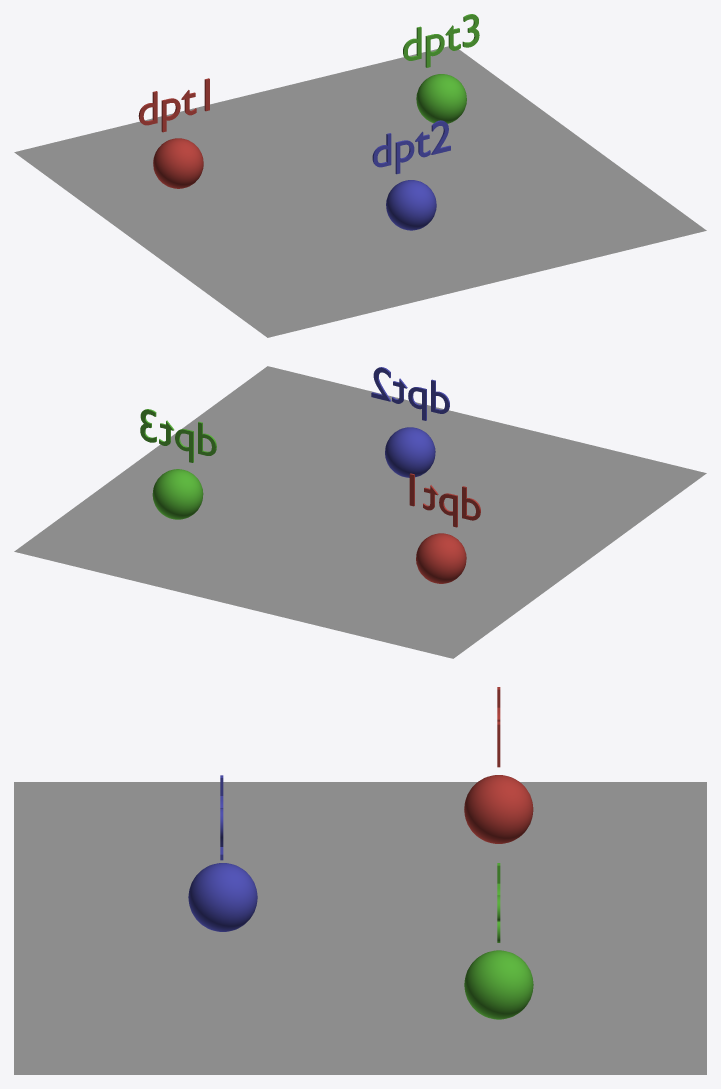
Rendered from school.glb.
3 renders of one model, top to bottom at view 1: azimuth 30°, elevation 25°; view 2: azimuth 150°, elevation 25°; view 3: azimuth 270°, elevation 25°, orthographic. The views are drawn at different scales.
Parts seen in each view (by area): view 1: MESH.ground_floor, PORTAL.dpt_01, PORTAL.dpt_02, PORTAL.dpt_03, MESH.dpt_02_sign, MESH.dpt_03_sign, MESH.dpt_01_sign; view 2: MESH.ground_floor, PORTAL.dpt_03, PORTAL.dpt_01, PORTAL.dpt_02, MESH.dpt_02_sign, MESH.dpt_03_sign, MESH.dpt_01_sign; view 3: MESH.ground_floor, PORTAL.dpt_03, PORTAL.dpt_01, PORTAL.dpt_02.
Boxes of the visible parts, box(x1,y1,x2,y2) form: MESH.ground_floor: box(14, 46, 706, 337); PORTAL.dpt_01: box(153, 138, 203, 188); PORTAL.dpt_02: box(386, 180, 436, 230); PORTAL.dpt_03: box(416, 74, 466, 123); MESH.dpt_02_sign: box(372, 120, 450, 174); MESH.dpt_03_sign: box(403, 14, 479, 67); MESH.dpt_01_sign: box(138, 78, 209, 132); MESH.ground_floor: box(14, 366, 706, 658); PORTAL.dpt_03: box(152, 469, 203, 519); PORTAL.dpt_01: box(416, 533, 466, 583); PORTAL.dpt_02: box(385, 427, 435, 477); MESH.dpt_02_sign: box(371, 367, 449, 420); MESH.dpt_03_sign: box(140, 409, 216, 462); MESH.dpt_01_sign: box(409, 473, 480, 527); MESH.ground_floor: box(14, 782, 706, 1074); PORTAL.dpt_03: box(464, 950, 533, 1019); PORTAL.dpt_01: box(464, 775, 533, 843); PORTAL.dpt_02: box(188, 863, 257, 931).
Bounding box in the file's own units: 10 × 2.19 × 10.
